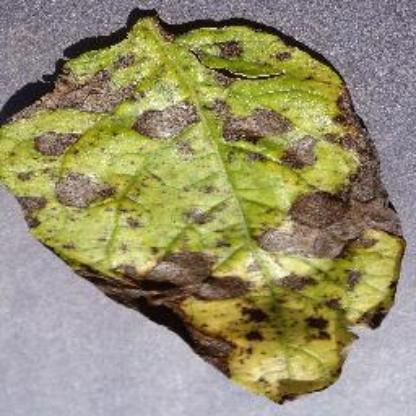Early-Blight: (3, 6, 412, 406)
